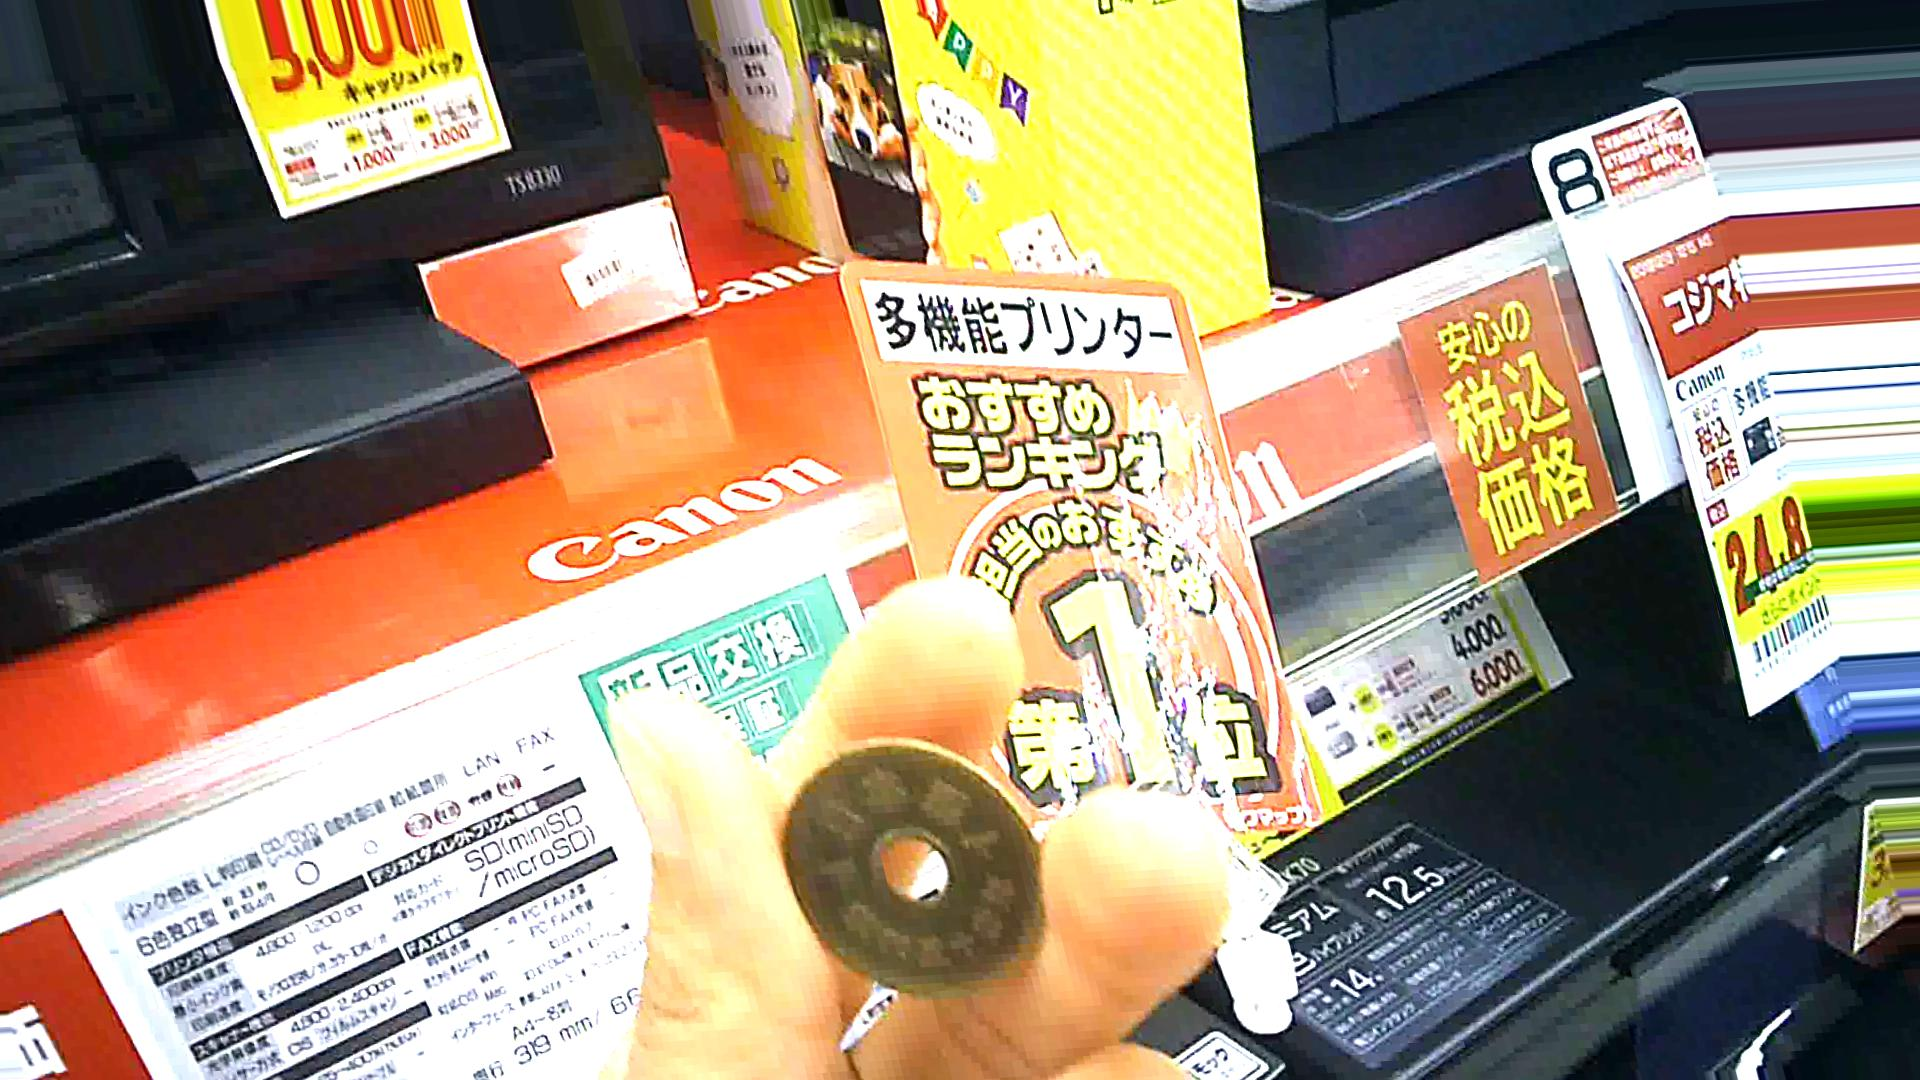5 Yen: (760, 732, 1047, 992)
